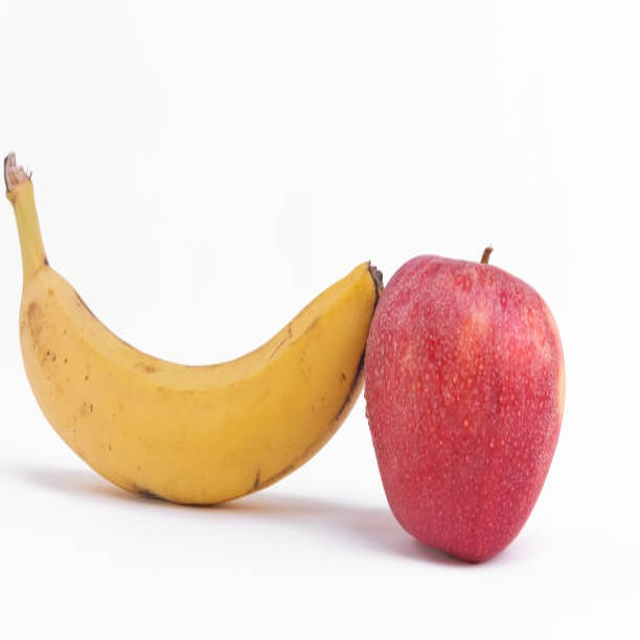apple: (369, 246, 576, 576)
banana: (1, 152, 381, 519)
